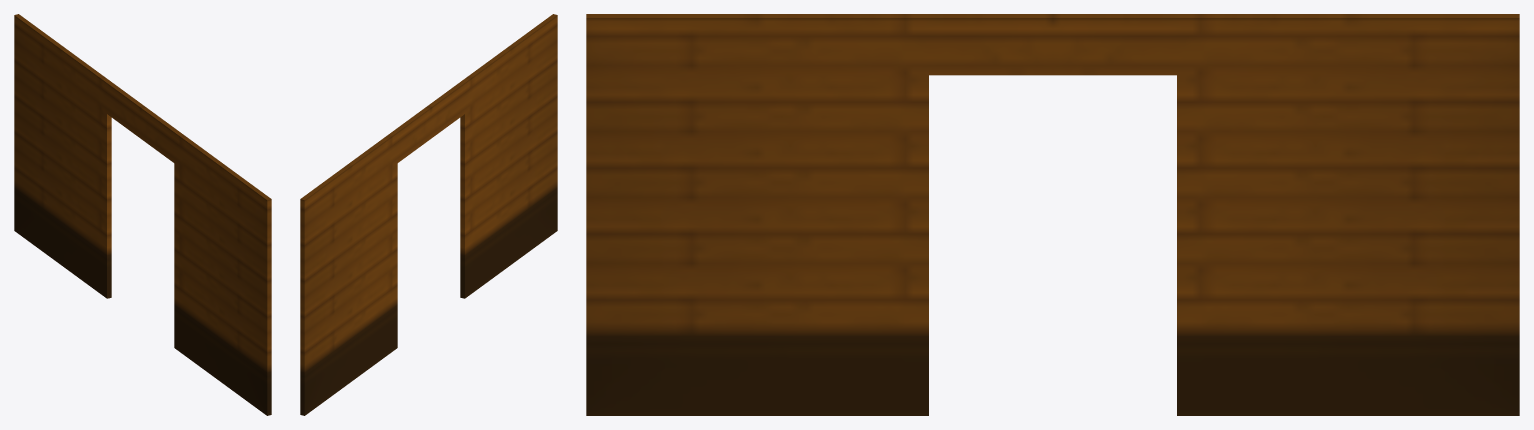
File: Wall_Door_05.FBX
The picture shows the model from 3 angles, left to right: view 1: azimuth 30°, elevation 25°; view 2: azimuth 150°, elevation 25°; view 3: azimuth 270°, elevation 25°; orthographic projection. The views are drawn at different scales.
Parts seen in each view (by area): view 1: Wall_Door_05; view 2: Wall_Door_05; view 3: Wall_Door_05.
Boxes of the visible parts, x1,y1,x2,y2 form: Wall_Door_05: [14, 14, 271, 415]; Wall_Door_05: [300, 14, 557, 415]; Wall_Door_05: [586, 14, 1519, 415].
Size of the model in its own units: 2 by 91.46 by 194.
